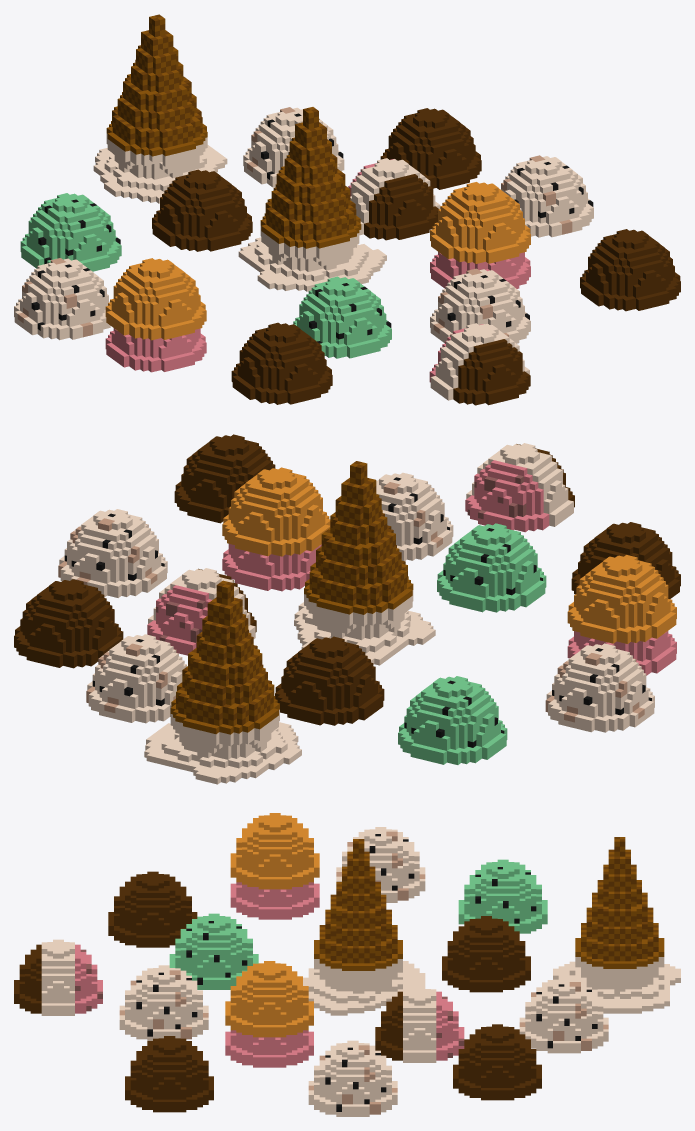
File: ice_cream_inner.obj
3 renders of one model, top to bottom at view 1: azimuth 30°, elevation 25°; view 2: azimuth 150°, elevation 25°; view 3: azimuth 270°, elevation 25°, orthographic. The views are drawn at different scales.
Parts seen in each view (by area): view 1: ice_cream; view 2: ice_cream; view 3: ice_cream.
Part boxes in pixels (box(x1,y1,x2,y2)): ice_cream: box(14, 14, 680, 405); ice_cream: box(14, 434, 680, 784); ice_cream: box(14, 813, 680, 1116).
Bounding box in the file's own units: 107 × 30 × 120.
